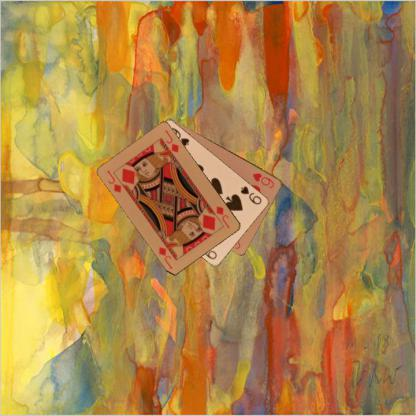6h: (249, 171, 276, 190)
9s: (238, 183, 264, 206)
Jd: (214, 204, 232, 230), (104, 168, 122, 194)
